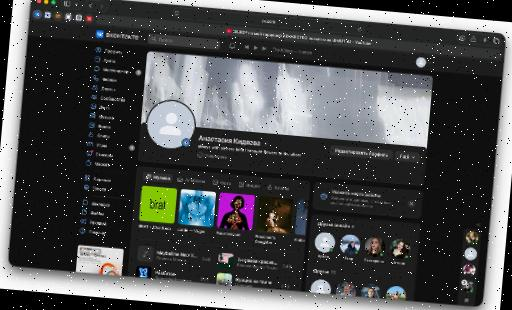vk: (8, 20, 504, 307)
